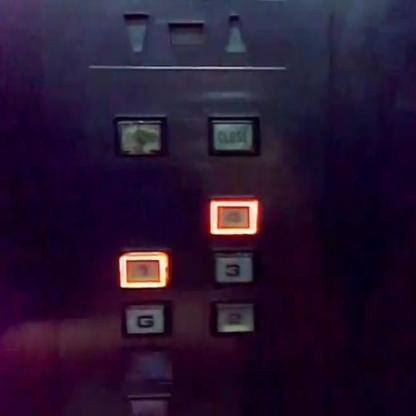1: (115, 246, 172, 291)
2: (207, 296, 260, 338)
3: (208, 246, 260, 289)
G: (117, 296, 174, 339)
blur: (110, 110, 171, 161), (206, 192, 262, 236)
text_close door: (204, 109, 262, 159)
